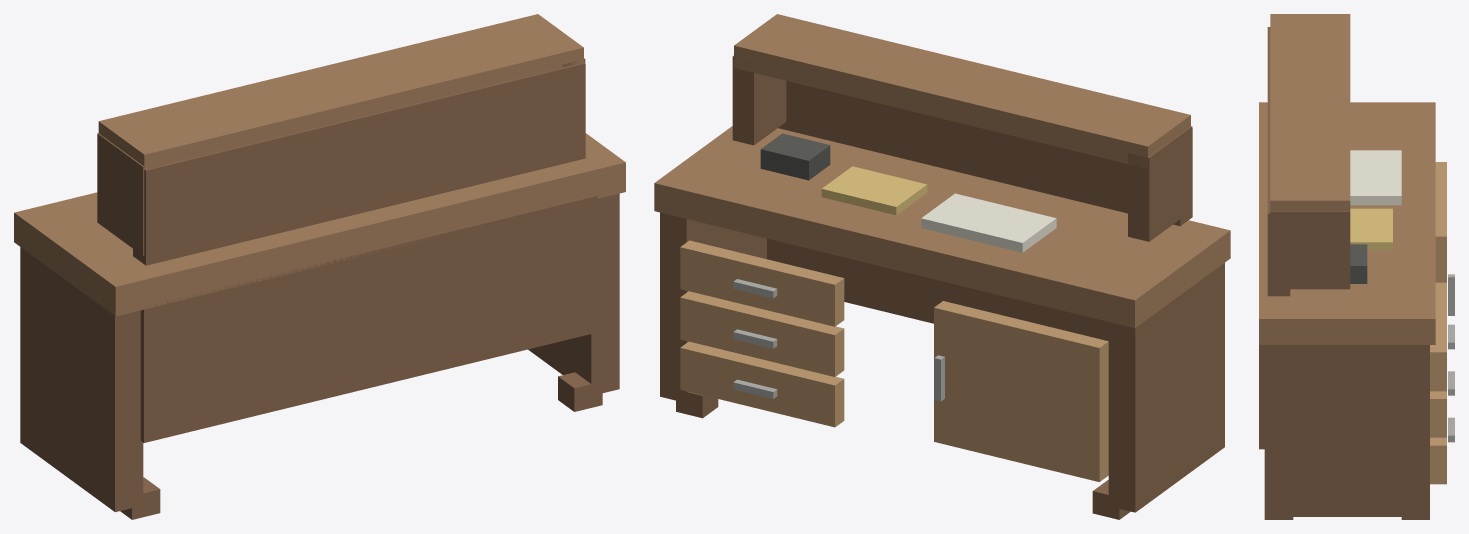
Rendered from staff_room_left_desk.glb.
3 views of the same model, side by side, from view 1: azimuth 30°, elevation 25°; view 2: azimuth 150°, elevation 25°; view 3: azimuth 270°, elevation 25° (orthographic). The views are drawn at different scales.
Parts seen in each view (by area): view 1: back_panel, upper_back, desktop, upper_top, left_side, right_side, upper_left, foot_0.78_0.24, foot_-0.78_0.24; view 2: desktop, upper_top, cupboard_front, left_side, upper_back, back_panel, drawer_1, drawer_2, drawer_3, right_side, upper_left, paper_stack (+5 smaller); view 3: right_side, desktop, upper_top, upper_right, paper_stack, folder, drawer_1, cupboard_front, upper_back, drawer_3, drawer_2, small_device (+2 smaller).
Part boxes in pixels (x1=…): back_panel: x1=140, y1=196, x2=597, y2=442; upper_back: x1=133, y1=62, x2=585, y2=265; desktop: x1=14, y1=133, x2=625, y2=316; upper_top: x1=98, y1=14, x2=583, y2=169; left_side: x1=20, y1=247, x2=143, y2=512; right_side: x1=528, y1=193, x2=619, y2=395; upper_left: x1=97, y1=133, x2=144, y2=255; foot_0.78_0.24: x1=558, y1=372, x2=602, y2=411; foot_-0.78_0.24: x1=120, y1=477, x2=160, y2=519; desktop: x1=654, y1=126, x2=1230, y2=328; upper_top: x1=734, y1=14, x2=1190, y2=168; cupboard_front: x1=934, y1=301, x2=1108, y2=481; left_side: x1=1108, y1=263, x2=1224, y2=512; upper_back: x1=778, y1=81, x2=1192, y2=226; back_panel: x1=767, y1=238, x2=1108, y2=340; drawer_1: x1=680, y1=240, x2=844, y2=326; drawer_2: x1=680, y1=291, x2=844, y2=376; drawer_3: x1=680, y1=341, x2=844, y2=427; right_side: x1=660, y1=212, x2=766, y2=402; upper_left: x1=1128, y1=126, x2=1192, y2=241; paper_stack: x1=921, y1=193, x2=1056, y2=252; right_side: x1=1264, y1=345, x2=1429, y2=516; desktop: x1=1259, y1=102, x2=1435, y2=344; upper_top: x1=1270, y1=14, x2=1350, y2=210; upper_right: x1=1270, y1=211, x2=1350, y2=289; paper_stack: x1=1350, y1=150, x2=1401, y2=205; folder: x1=1350, y1=208, x2=1392, y2=250; drawer_1: x1=1430, y1=282, x2=1446, y2=391; cupboard_front: x1=1435, y1=162, x2=1446, y2=282; upper_back: x1=1267, y1=27, x2=1290, y2=296; drawer_3: x1=1430, y1=437, x2=1446, y2=484; drawer_2: x1=1430, y1=391, x2=1446, y2=437; small_device: x1=1350, y1=244, x2=1367, y2=283.
Size of the model in its own units: 1.8 by 1.21 by 0.6875.
